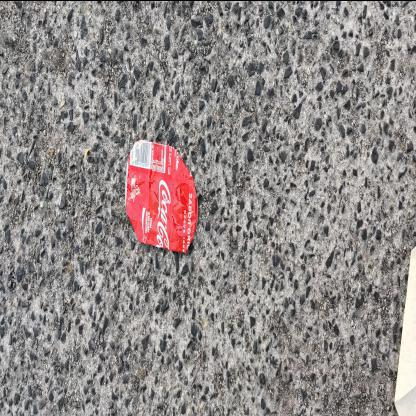metal: (126, 138, 200, 256)
